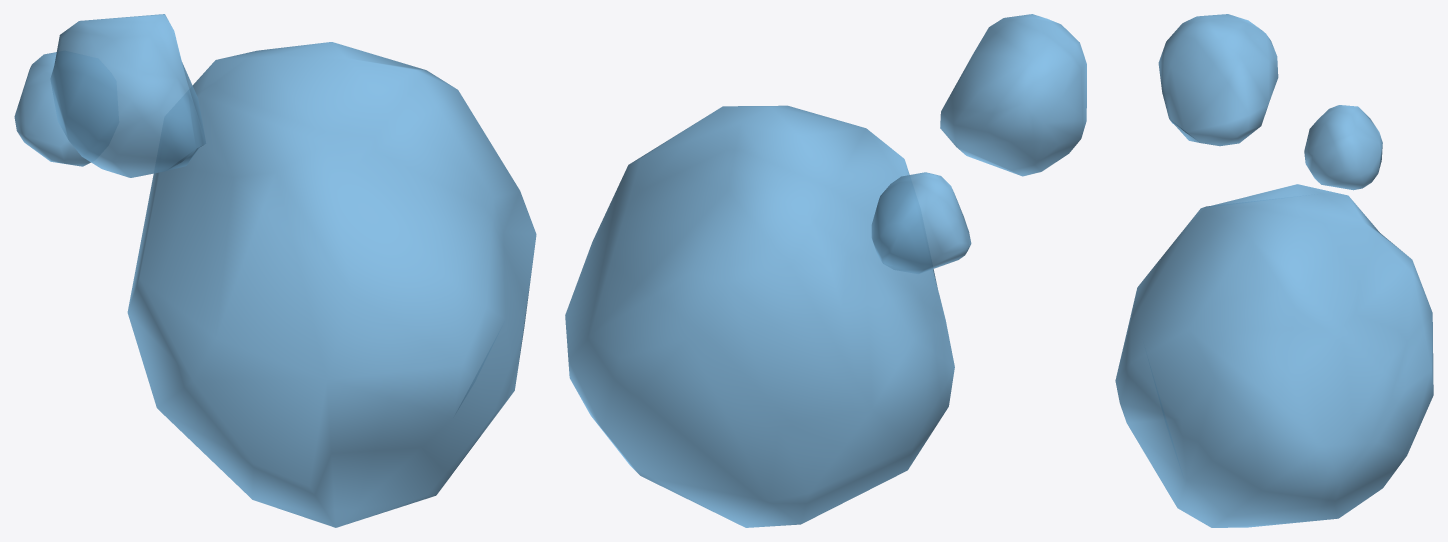
Rendered from water_drop.glb.
3 renders of one model, left to right at view 1: azimuth 30°, elevation 25°; view 2: azimuth 150°, elevation 25°; view 3: azimuth 270°, elevation 25°, orthographic. The views are drawn at different scales.
Parts seen in each view (by area): view 1: Sphere_0, Sphere.001_1, Sphere.002_2; view 2: Sphere_0, Sphere.001_1, Sphere.002_2; view 3: Sphere_0, Sphere.001_1, Sphere.002_2.
Part boxes in pixels (x1,y1,x2,y2): Sphere_0: [127, 42, 536, 527]; Sphere.001_1: [50, 14, 206, 177]; Sphere.002_2: [14, 52, 90, 166]; Sphere_0: [565, 105, 954, 527]; Sphere.001_1: [940, 14, 1086, 176]; Sphere.002_2: [871, 172, 971, 274]; Sphere_0: [1115, 184, 1433, 527]; Sphere.001_1: [1158, 14, 1278, 146]; Sphere.002_2: [1304, 105, 1382, 190].
Bounding box in the file's own units: 2.75 × 3.02 × 2.07.
